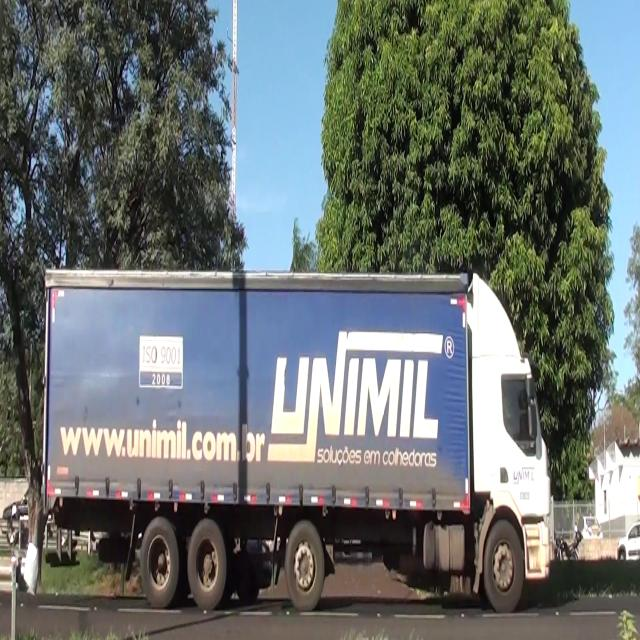-axle: (483, 505, 528, 622), (287, 516, 324, 616), (189, 518, 228, 606), (142, 513, 178, 602)
